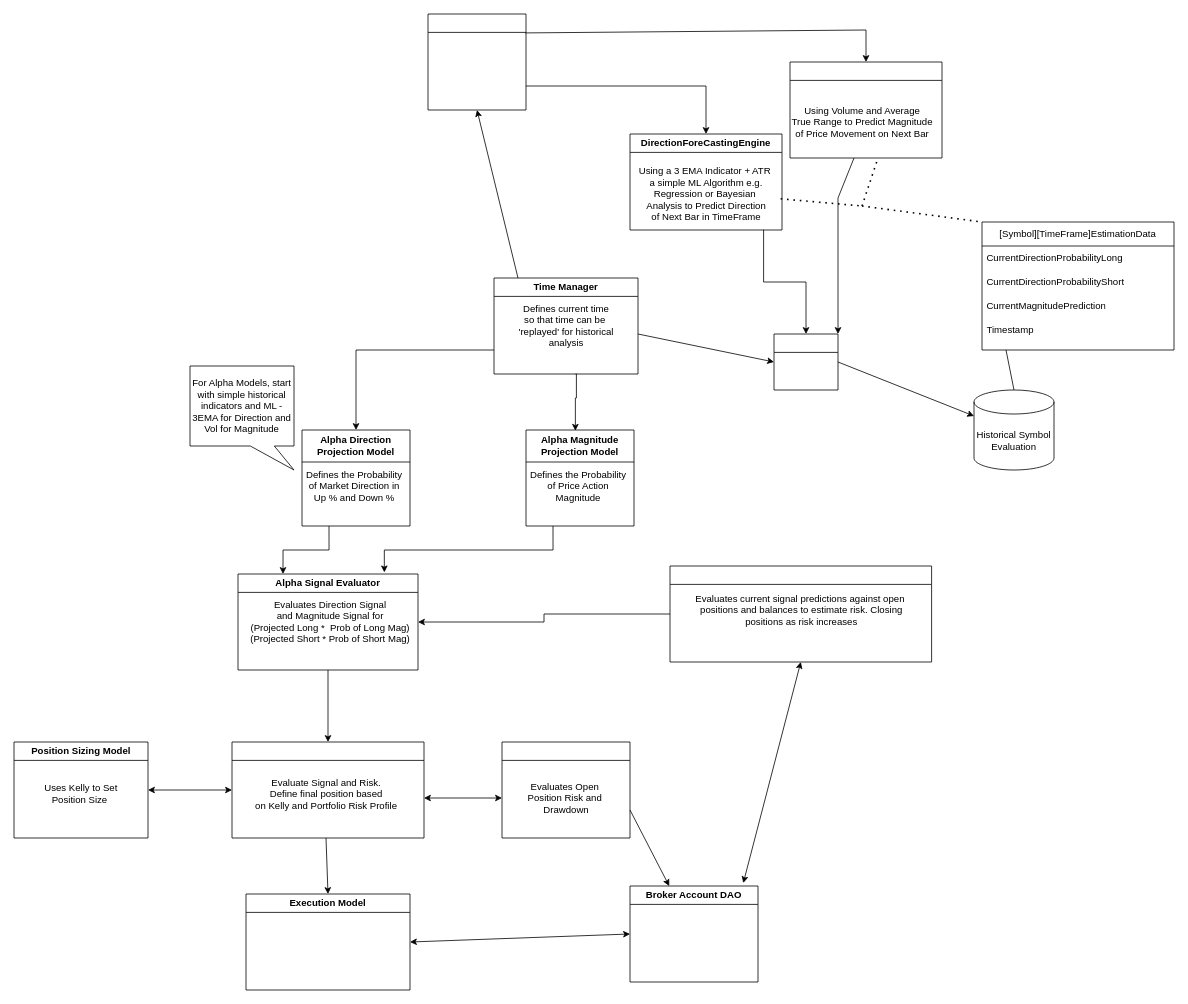
This 1188x1004 diagram has some shape labels left out. Each missing label, with the box of its shape:
Broker Symbol DAO: (427, 13, 526, 110)
DB DAO: (773, 333, 838, 390)
Entry Decision Model: (231, 741, 424, 838)
Entry Risk Model: (501, 741, 630, 838)
MagnitudeForecastingEngine: (789, 61, 942, 158)
Portfolio Risk Management: (669, 565, 932, 662)
